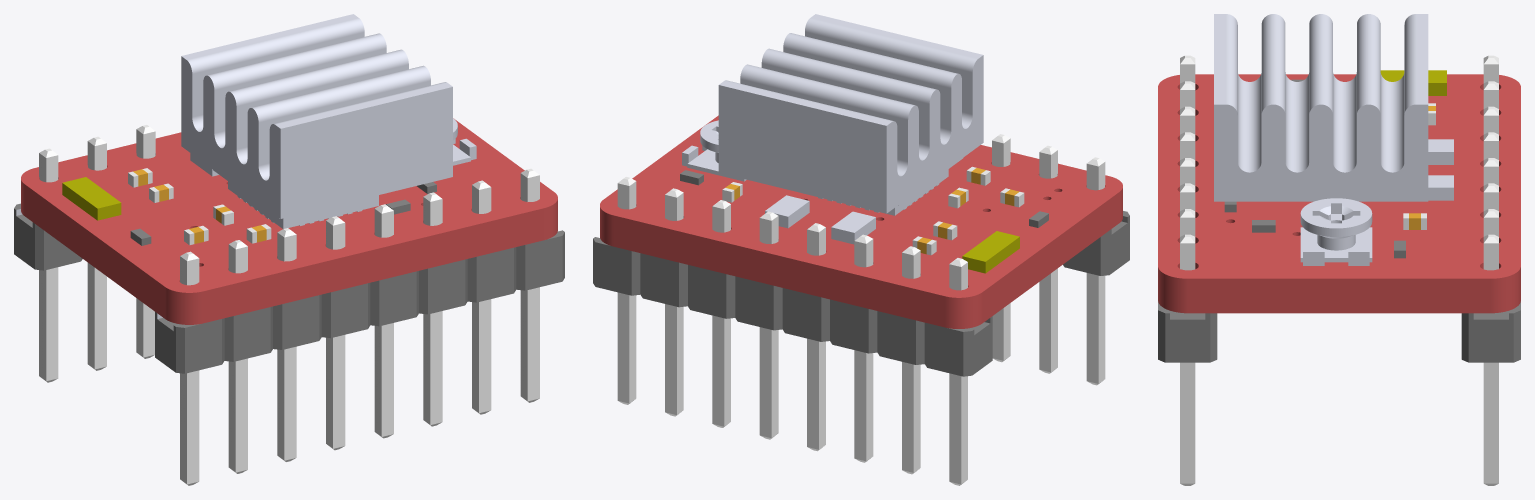
The model's file is a4988_driver.glb.
3 renders of one model, left to right at view 1: azimuth 30°, elevation 25°; view 2: azimuth 150°, elevation 25°; view 3: azimuth 270°, elevation 25°, orthographic. The views are drawn at different scales.
Parts seen in each view (by area): view 1: Node2, Node1, Node3, Node4, Node5, Node6; view 2: Node2, Node1, Node3, Node4, Node5, Node6; view 3: Node2, Node1, Node3, Node4, Node5.
Part boxes in pixels (box(x1,y1,x2,y2)): Node2: box(21, 118, 557, 324); Node1: box(16, 14, 476, 318); Node3: box(39, 125, 539, 485); Node4: box(14, 182, 564, 373); Node5: box(62, 177, 121, 220); Node6: box(133, 169, 266, 243); Node2: box(600, 115, 1122, 328); Node1: box(682, 14, 983, 244); Node3: box(617, 134, 1105, 485); Node4: box(593, 170, 1129, 376); Node5: box(962, 231, 1019, 273); Node6: box(725, 168, 1019, 254); Node2: box(1158, 74, 1520, 313); Node1: box(1214, 14, 1453, 265); Node3: box(1180, 55, 1498, 485); Node4: box(1158, 79, 1520, 362); Node5: box(1380, 70, 1446, 95).
Size of the model in its own units: 20.32 by 16.04 by 15.24.
